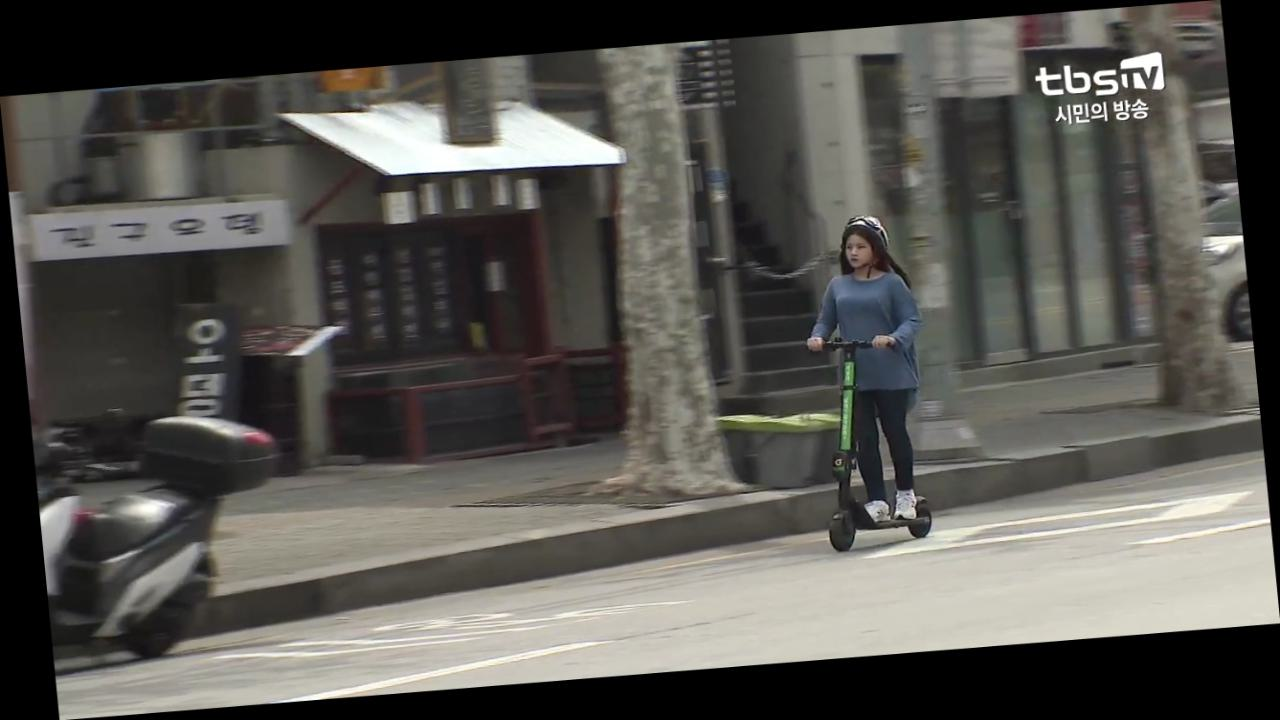helmet: (793, 209, 941, 553)
